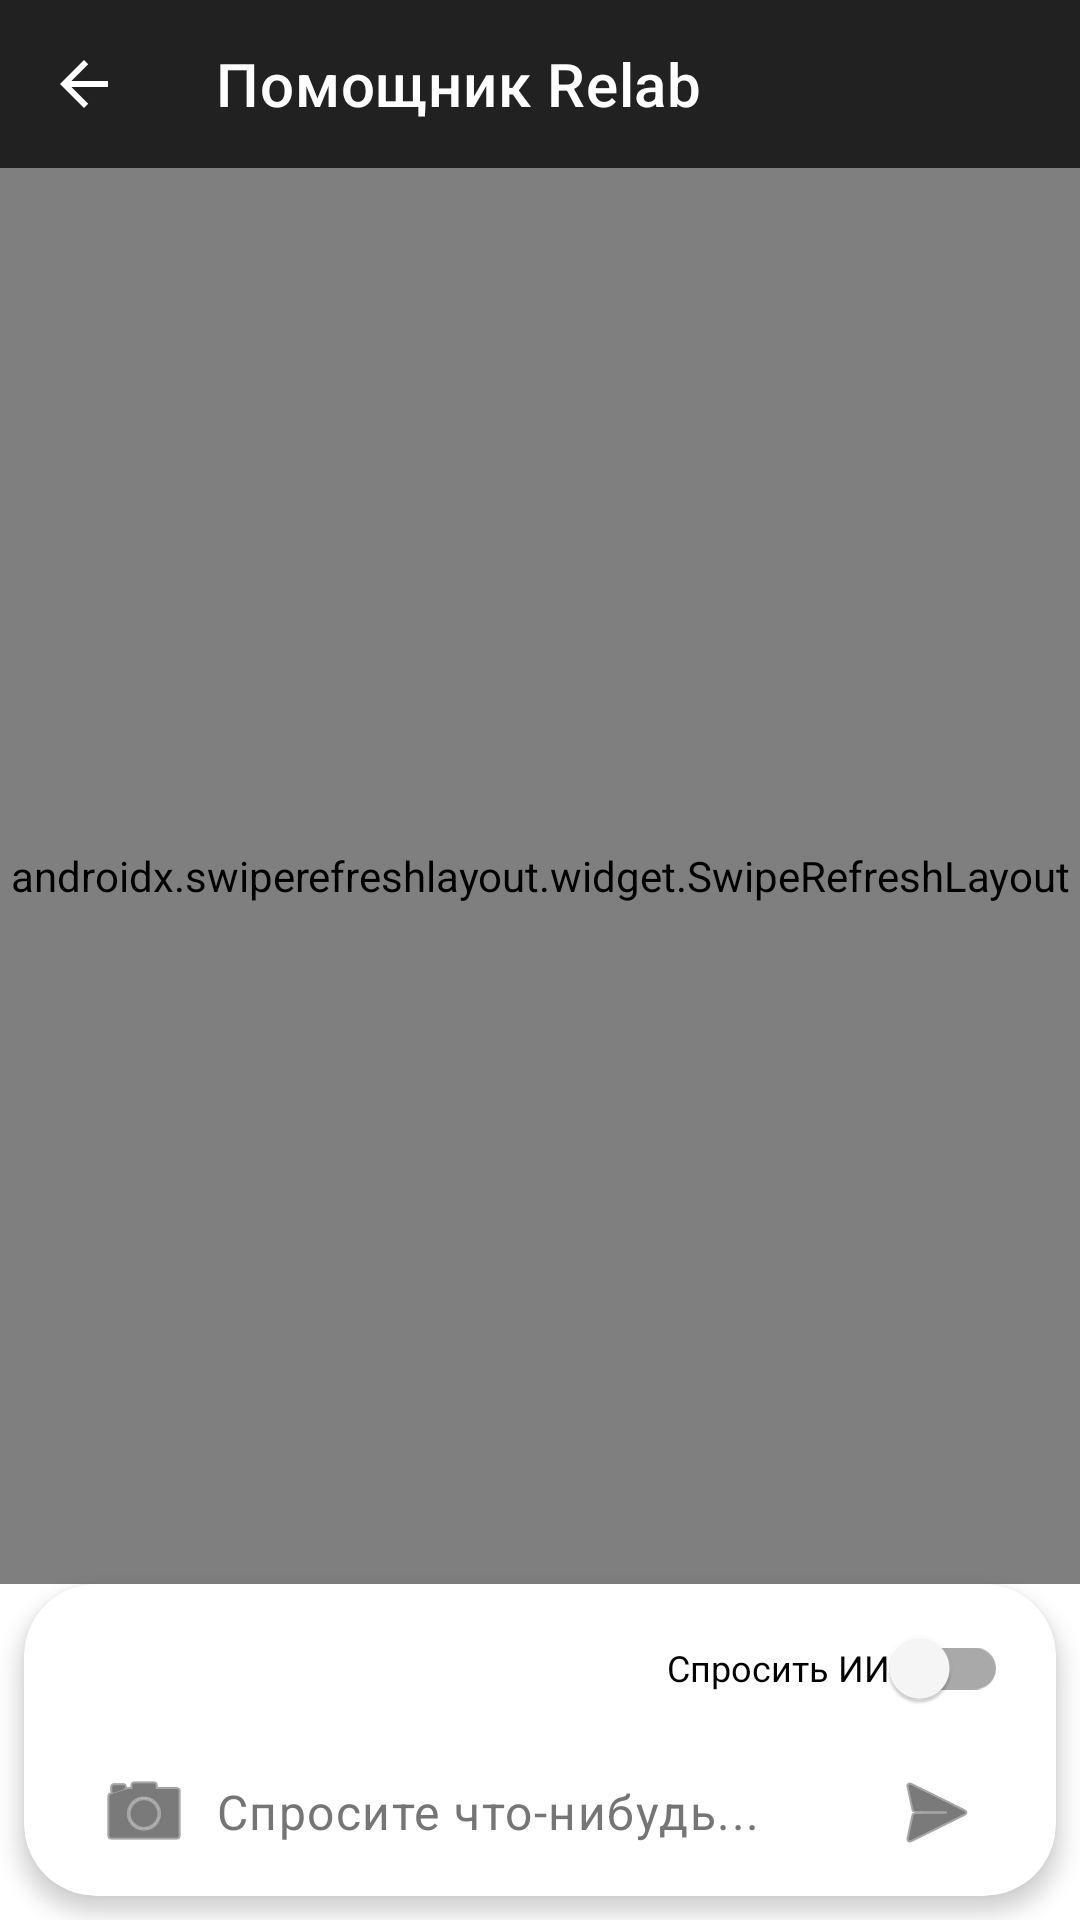

Point at icon controls on the screen. Image size 1080px×1920px, points as (x=x, y=y).
Отправить: (x=937, y=1812)
Прикрепить: (x=144, y=1810)
